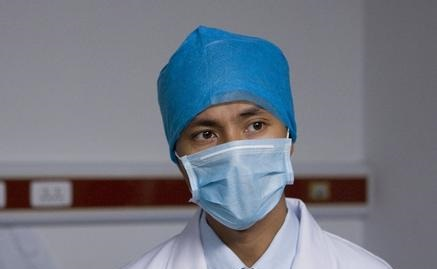face_mask: (182, 90, 287, 227)
